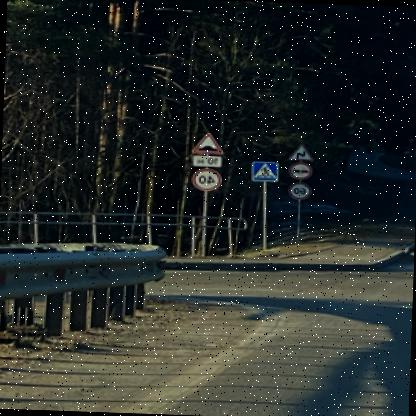crosswalk: (254, 158, 282, 182)
speedlimit: (194, 168, 224, 189), (290, 180, 312, 198)
